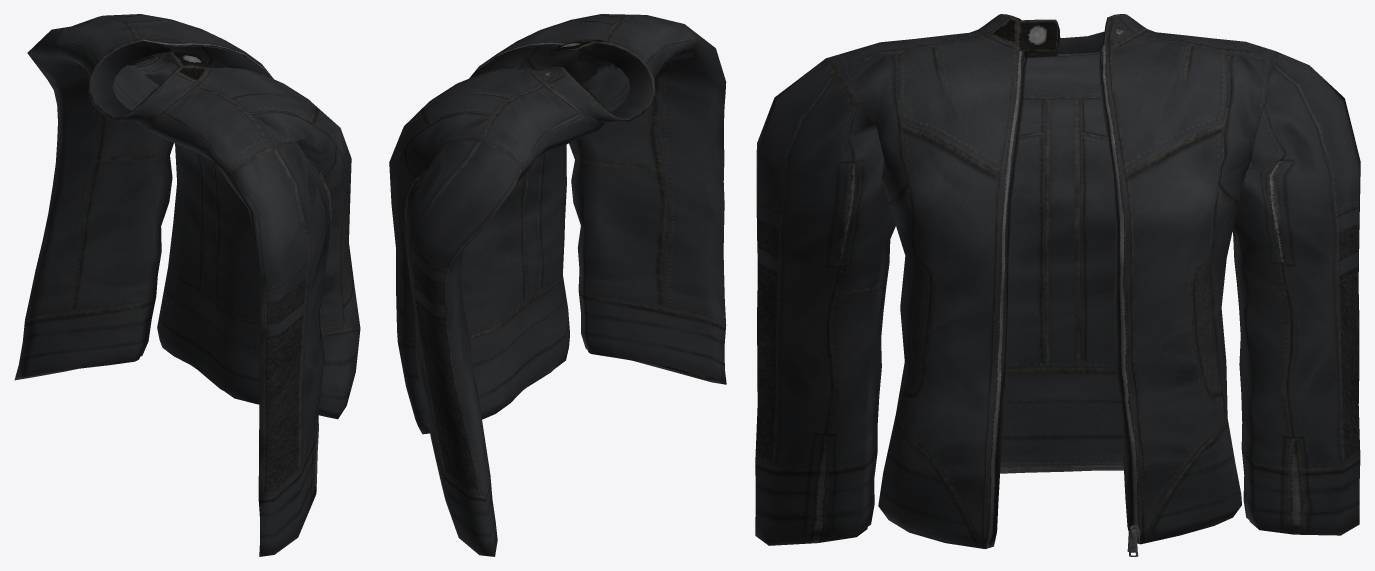
Rendered from Jacket_S13-1.FBX.
3 renders of one model, left to right at view 1: azimuth 30°, elevation 25°; view 2: azimuth 150°, elevation 25°; view 3: azimuth 270°, elevation 25°, orthographic. The views are drawn at different scales.
Parts seen in each view (by area): view 1: Jacket_MAIN, Jacket_MAIN_in; view 2: Jacket_MAIN, Jacket_MAIN_in; view 3: Jacket_MAIN, Jacket_MAIN_in.
Boxes of the visible parts, x1,y1,x2,y2 form: Jacket_MAIN: (14, 14, 360, 556); Jacket_MAIN_in: (112, 46, 307, 360); Jacket_MAIN: (389, 14, 726, 556); Jacket_MAIN_in: (442, 46, 716, 379); Jacket_MAIN: (755, 14, 1360, 556); Jacket_MAIN_in: (859, 36, 1289, 552).
Size of the model in its own units: 0.3831 by 0.7177 by 0.7506.
